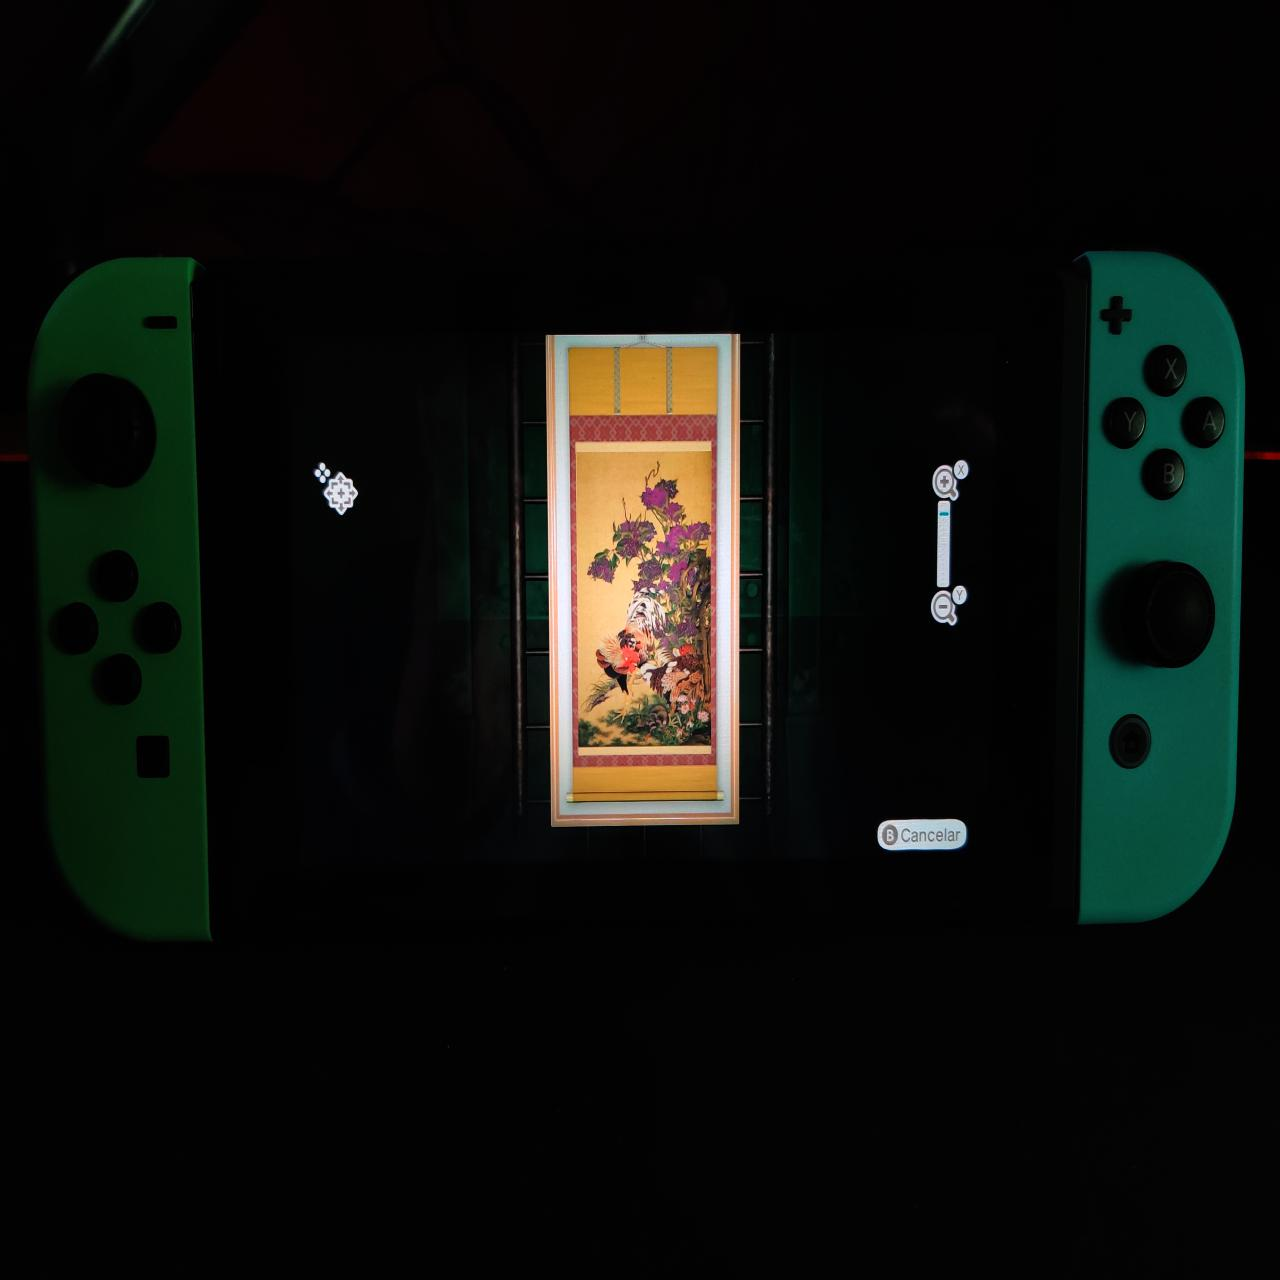AjisaisoukeizuFake: (576, 445, 715, 765)
